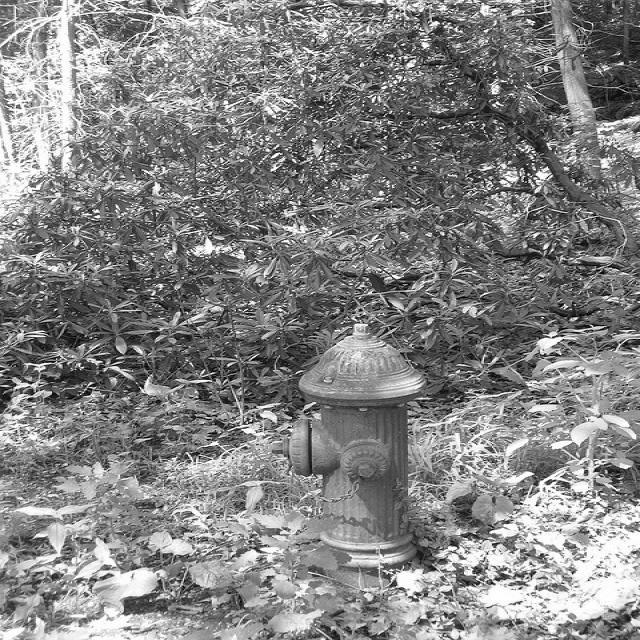fire_hydrant: (270, 322, 426, 566)
